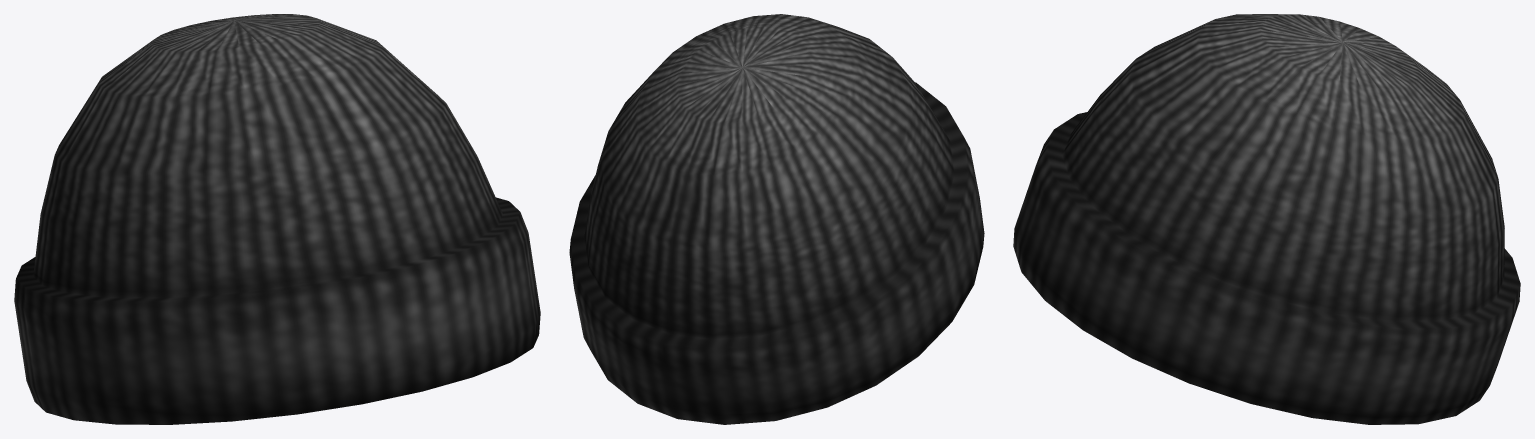
The model's file is YarnHat.FBX.
The picture shows the model from 3 angles, left to right: view 1: azimuth 30°, elevation 25°; view 2: azimuth 150°, elevation 25°; view 3: azimuth 270°, elevation 25°; orthographic projection. The views are drawn at different scales.
Parts seen in each view (by area): view 1: YarnHat; view 2: YarnHat; view 3: YarnHat.
Part boxes in pixels (bbox=[...]): YarnHat: bbox=[14, 14, 540, 424]; YarnHat: bbox=[569, 14, 984, 424]; YarnHat: bbox=[1013, 14, 1520, 424].
Size of the model in its own units: 35.77 by 31.45 by 41.34.
Materials: 1 (1 with a texture image).
